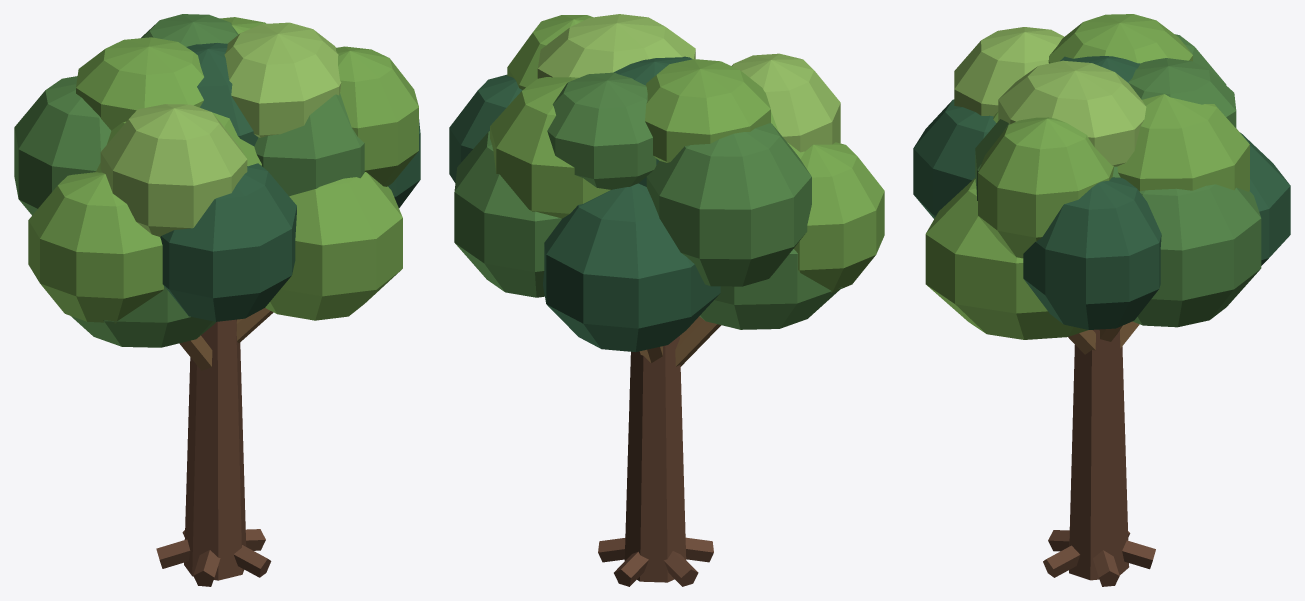
Rendered from tree_oak.glb.
The picture shows the model from 3 angles, left to right: view 1: azimuth 30°, elevation 25°; view 2: azimuth 150°, elevation 25°; view 3: azimuth 270°, elevation 25°; orthographic projection.
Parts seen in each view (by area): view 1: decor_oak_crown_04, decor_oak_crown_06, decor_oak_crown_01, decor_oak_crown_12, Oak_trunk, decor_oak_crown_15, decor_oak_crown_09, decor_oak_crown_14, decor_oak_crown_13, decor_oak_crown_08, decor_oak_crown_00, decor_oak_crown_11 (+8 smaller); view 2: decor_oak_crown_02, decor_oak_crown_09, Oak_trunk, decor_oak_crown_03, decor_oak_crown_16, decor_oak_crown_04, decor_oak_crown_14, decor_oak_crown_10, decor_oak_crown_15, decor_oak_crown_12, decor_oak_crown_00, decor_oak_crown_05 (+7 smaller); view 3: decor_oak_crown_05, decor_oak_crown_03, Oak_trunk, decor_oak_crown_13, decor_oak_crown_01, decor_oak_crown_10, decor_oak_crown_15, decor_oak_crown_06, decor_oak_crown_12, decor_oak_crown_14, decor_oak_crown_16, decor_oak_crown_02 (+5 smaller).
Part boxes in pixels (x1,y1,x2,y2): decor_oak_crown_04: [28, 172, 163, 323]; decor_oak_crown_06: [160, 163, 296, 321]; decor_oak_crown_01: [265, 172, 402, 320]; decor_oak_crown_12: [100, 104, 247, 236]; Oak_trunk: [184, 319, 246, 580]; decor_oak_crown_15: [224, 22, 341, 137]; decor_oak_crown_09: [14, 76, 111, 215]; decor_oak_crown_14: [76, 37, 203, 130]; decor_oak_crown_13: [336, 46, 418, 186]; decor_oak_crown_08: [254, 93, 364, 196]; decor_oak_crown_00: [71, 286, 215, 347]; decor_oak_crown_11: [186, 43, 258, 146]; decor_oak_crown_02: [543, 183, 720, 352]; decor_oak_crown_09: [646, 123, 811, 286]; Oak_trunk: [624, 336, 686, 582]; decor_oak_crown_03: [454, 131, 561, 297]; decor_oak_crown_16: [547, 72, 656, 189]; decor_oak_crown_04: [794, 142, 884, 292]; decor_oak_crown_14: [645, 59, 770, 162]; decor_oak_crown_10: [490, 77, 610, 218]; decor_oak_crown_15: [537, 14, 695, 78]; decor_oak_crown_12: [732, 53, 840, 152]; decor_oak_crown_00: [699, 249, 842, 329]; decor_oak_crown_05: [449, 74, 522, 182]; decor_oak_crown_05: [1023, 177, 1161, 329]; decor_oak_crown_03: [1133, 184, 1261, 327]; Oak_trunk: [1069, 329, 1129, 580]; decor_oak_crown_13: [978, 117, 1114, 258]; decor_oak_crown_01: [925, 178, 1087, 339]; decor_oak_crown_10: [1117, 94, 1249, 191]; decor_oak_crown_15: [998, 60, 1146, 166]; decor_oak_crown_06: [913, 99, 996, 218]; decor_oak_crown_12: [954, 27, 1064, 116]; decor_oak_crown_14: [1048, 14, 1192, 63]; decor_oak_crown_16: [1128, 58, 1236, 127]; decor_oak_crown_02: [1240, 132, 1290, 265].
Bounding box in the file's own units: 2.41 × 3.08 × 2.02.
